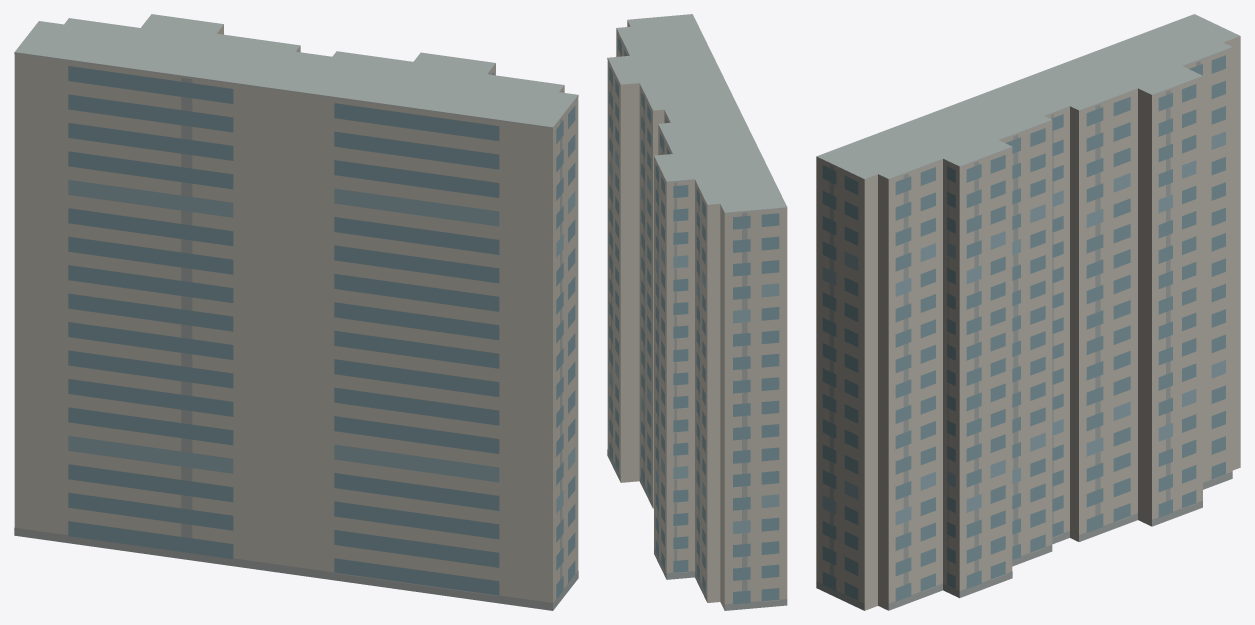
Rendered from residential-86f0b9f0-a523-4c1f-a544-4327c8cd4bae.glb.
The picture shows the model from 3 angles, left to right: view 1: azimuth 30°, elevation 25°; view 2: azimuth 150°, elevation 25°; view 3: azimuth 270°, elevation 25°; orthographic projection. The views are drawn at different scales.
Visible parts, largest first — view 1: residential-86f0b9f0-a523-4c1f-a544-4327c8cd4bae.tmp; view 2: residential-86f0b9f0-a523-4c1f-a544-4327c8cd4bae.tmp; view 3: residential-86f0b9f0-a523-4c1f-a544-4327c8cd4bae.tmp.
Part boxes in pixels (x1,y1,x2,y2): residential-86f0b9f0-a523-4c1f-a544-4327c8cd4bae.tmp: [14, 14, 578, 610]; residential-86f0b9f0-a523-4c1f-a544-4327c8cd4bae.tmp: [607, 14, 787, 610]; residential-86f0b9f0-a523-4c1f-a544-4327c8cd4bae.tmp: [816, 14, 1240, 610].
Size of the model in its own units: 44.33 by 54 by 48.1.
